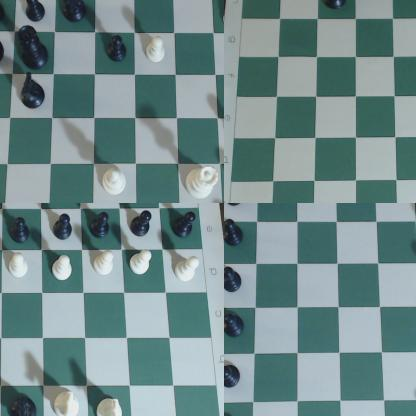black-bishop: (1, 1, 12, 28)
black-knight: (14, 75, 46, 107), (60, 1, 93, 29), (5, 392, 38, 416)
black-pawn: (17, 1, 52, 25), (173, 211, 201, 241), (108, 34, 132, 66), (8, 217, 35, 245), (87, 213, 112, 243), (132, 209, 155, 240), (225, 217, 247, 249), (50, 214, 74, 241), (225, 314, 248, 340), (225, 267, 243, 296), (225, 362, 243, 390)
black-queen: (20, 24, 53, 75), (319, 1, 352, 14)
white-bishop: (103, 170, 130, 197)
white-knight: (56, 390, 81, 416), (98, 395, 125, 416)
white-pawn: (46, 253, 76, 289), (175, 253, 201, 290), (88, 252, 118, 284), (4, 251, 35, 281), (128, 250, 155, 282), (146, 34, 171, 66)
white-queen: (187, 162, 220, 203)
